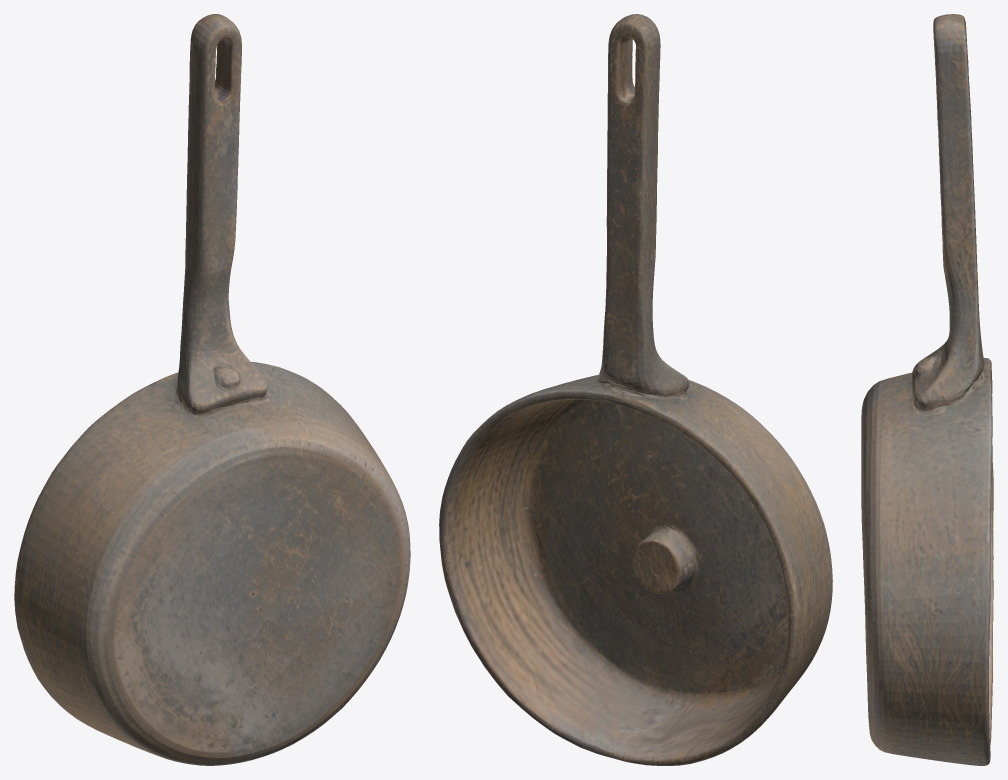
The model's file is Pan3.fbx.
3 views of the same model, side by side, from view 1: azimuth 30°, elevation 25°; view 2: azimuth 150°, elevation 25°; view 3: azimuth 270°, elevation 25° (orthographic).
Visible parts, largest first — view 1: Pan3_Low; view 2: Pan3_Low; view 3: Pan3_Low.
Part boxes in pixels (x1=…): Pan3_Low: x1=14, y1=14, x2=410, y2=765; Pan3_Low: x1=439, y1=14, x2=832, y2=765; Pan3_Low: x1=861, y1=14, x2=993, y2=765.
Size of the model in its own units: 0.5168 by 0.9994 by 0.1646.
